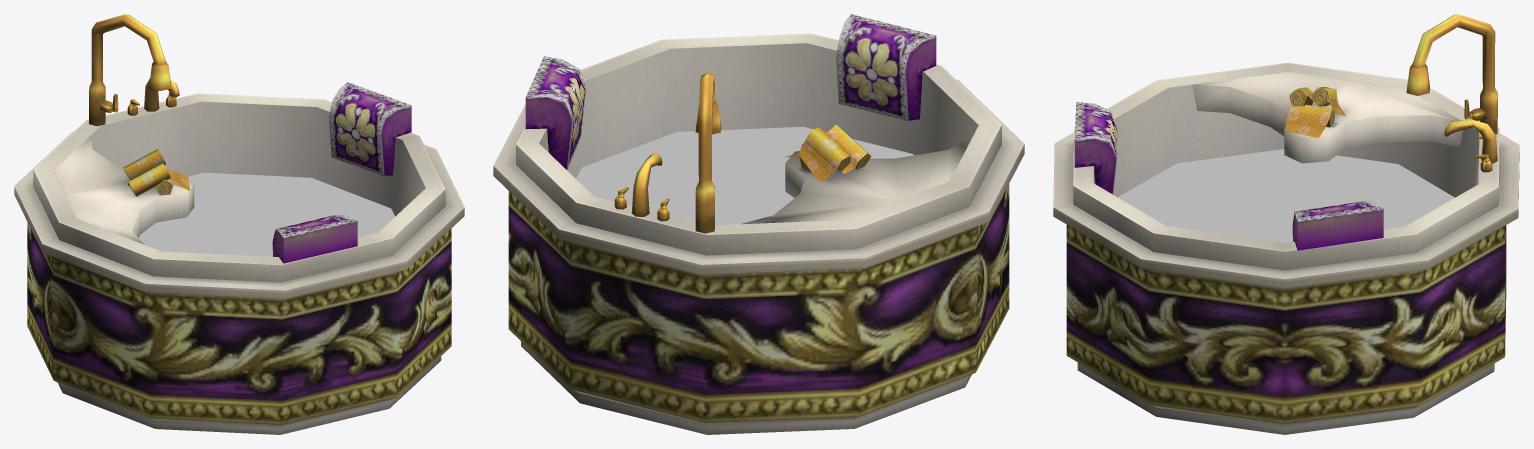
Rendered from furni_0201118_01.FBX.
The picture shows the model from 3 angles, left to right: view 1: azimuth 30°, elevation 25°; view 2: azimuth 150°, elevation 25°; view 3: azimuth 270°, elevation 25°; orthographic projection. The views are drawn at different scales.
Parts seen in each view (by area): view 1: furni_0201118_01; view 2: furni_0201118_01; view 3: furni_0201118_01.
Boxes of the visible parts, x1,y1,x2,y2 form: furni_0201118_01: [14, 14, 464, 434]; furni_0201118_01: [493, 14, 1024, 434]; furni_0201118_01: [1053, 14, 1519, 434].
Bounding box in the file's own units: 163 × 114 × 155.
